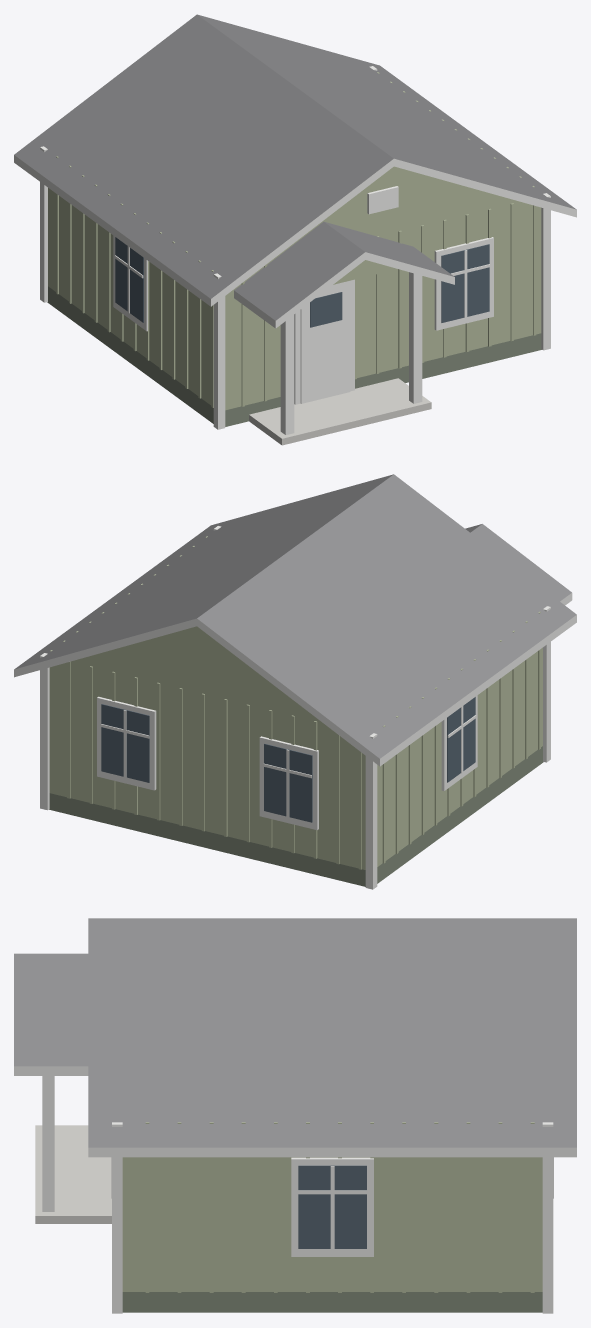
Rendered from conversion-sage.glb.
3 renders of one model, top to bottom at view 1: azimuth 30°, elevation 25°; view 2: azimuth 150°, elevation 25°; view 3: azimuth 270°, elevation 25°, orthographic. The views are drawn at different scales.
Parts seen in each view (by area): view 1: The Conversion (sage); view 2: The Conversion (sage); view 3: The Conversion (sage).
Part boxes in pixels (left/top/right/bottom): The Conversion (sage): left=14, top=14, right=576, bottom=445; The Conversion (sage): left=14, top=474, right=576, bottom=889; The Conversion (sage): left=14, top=918, right=576, bottom=1313.
Size of the model in its own units: 6.86 by 4.27 by 7.37.
